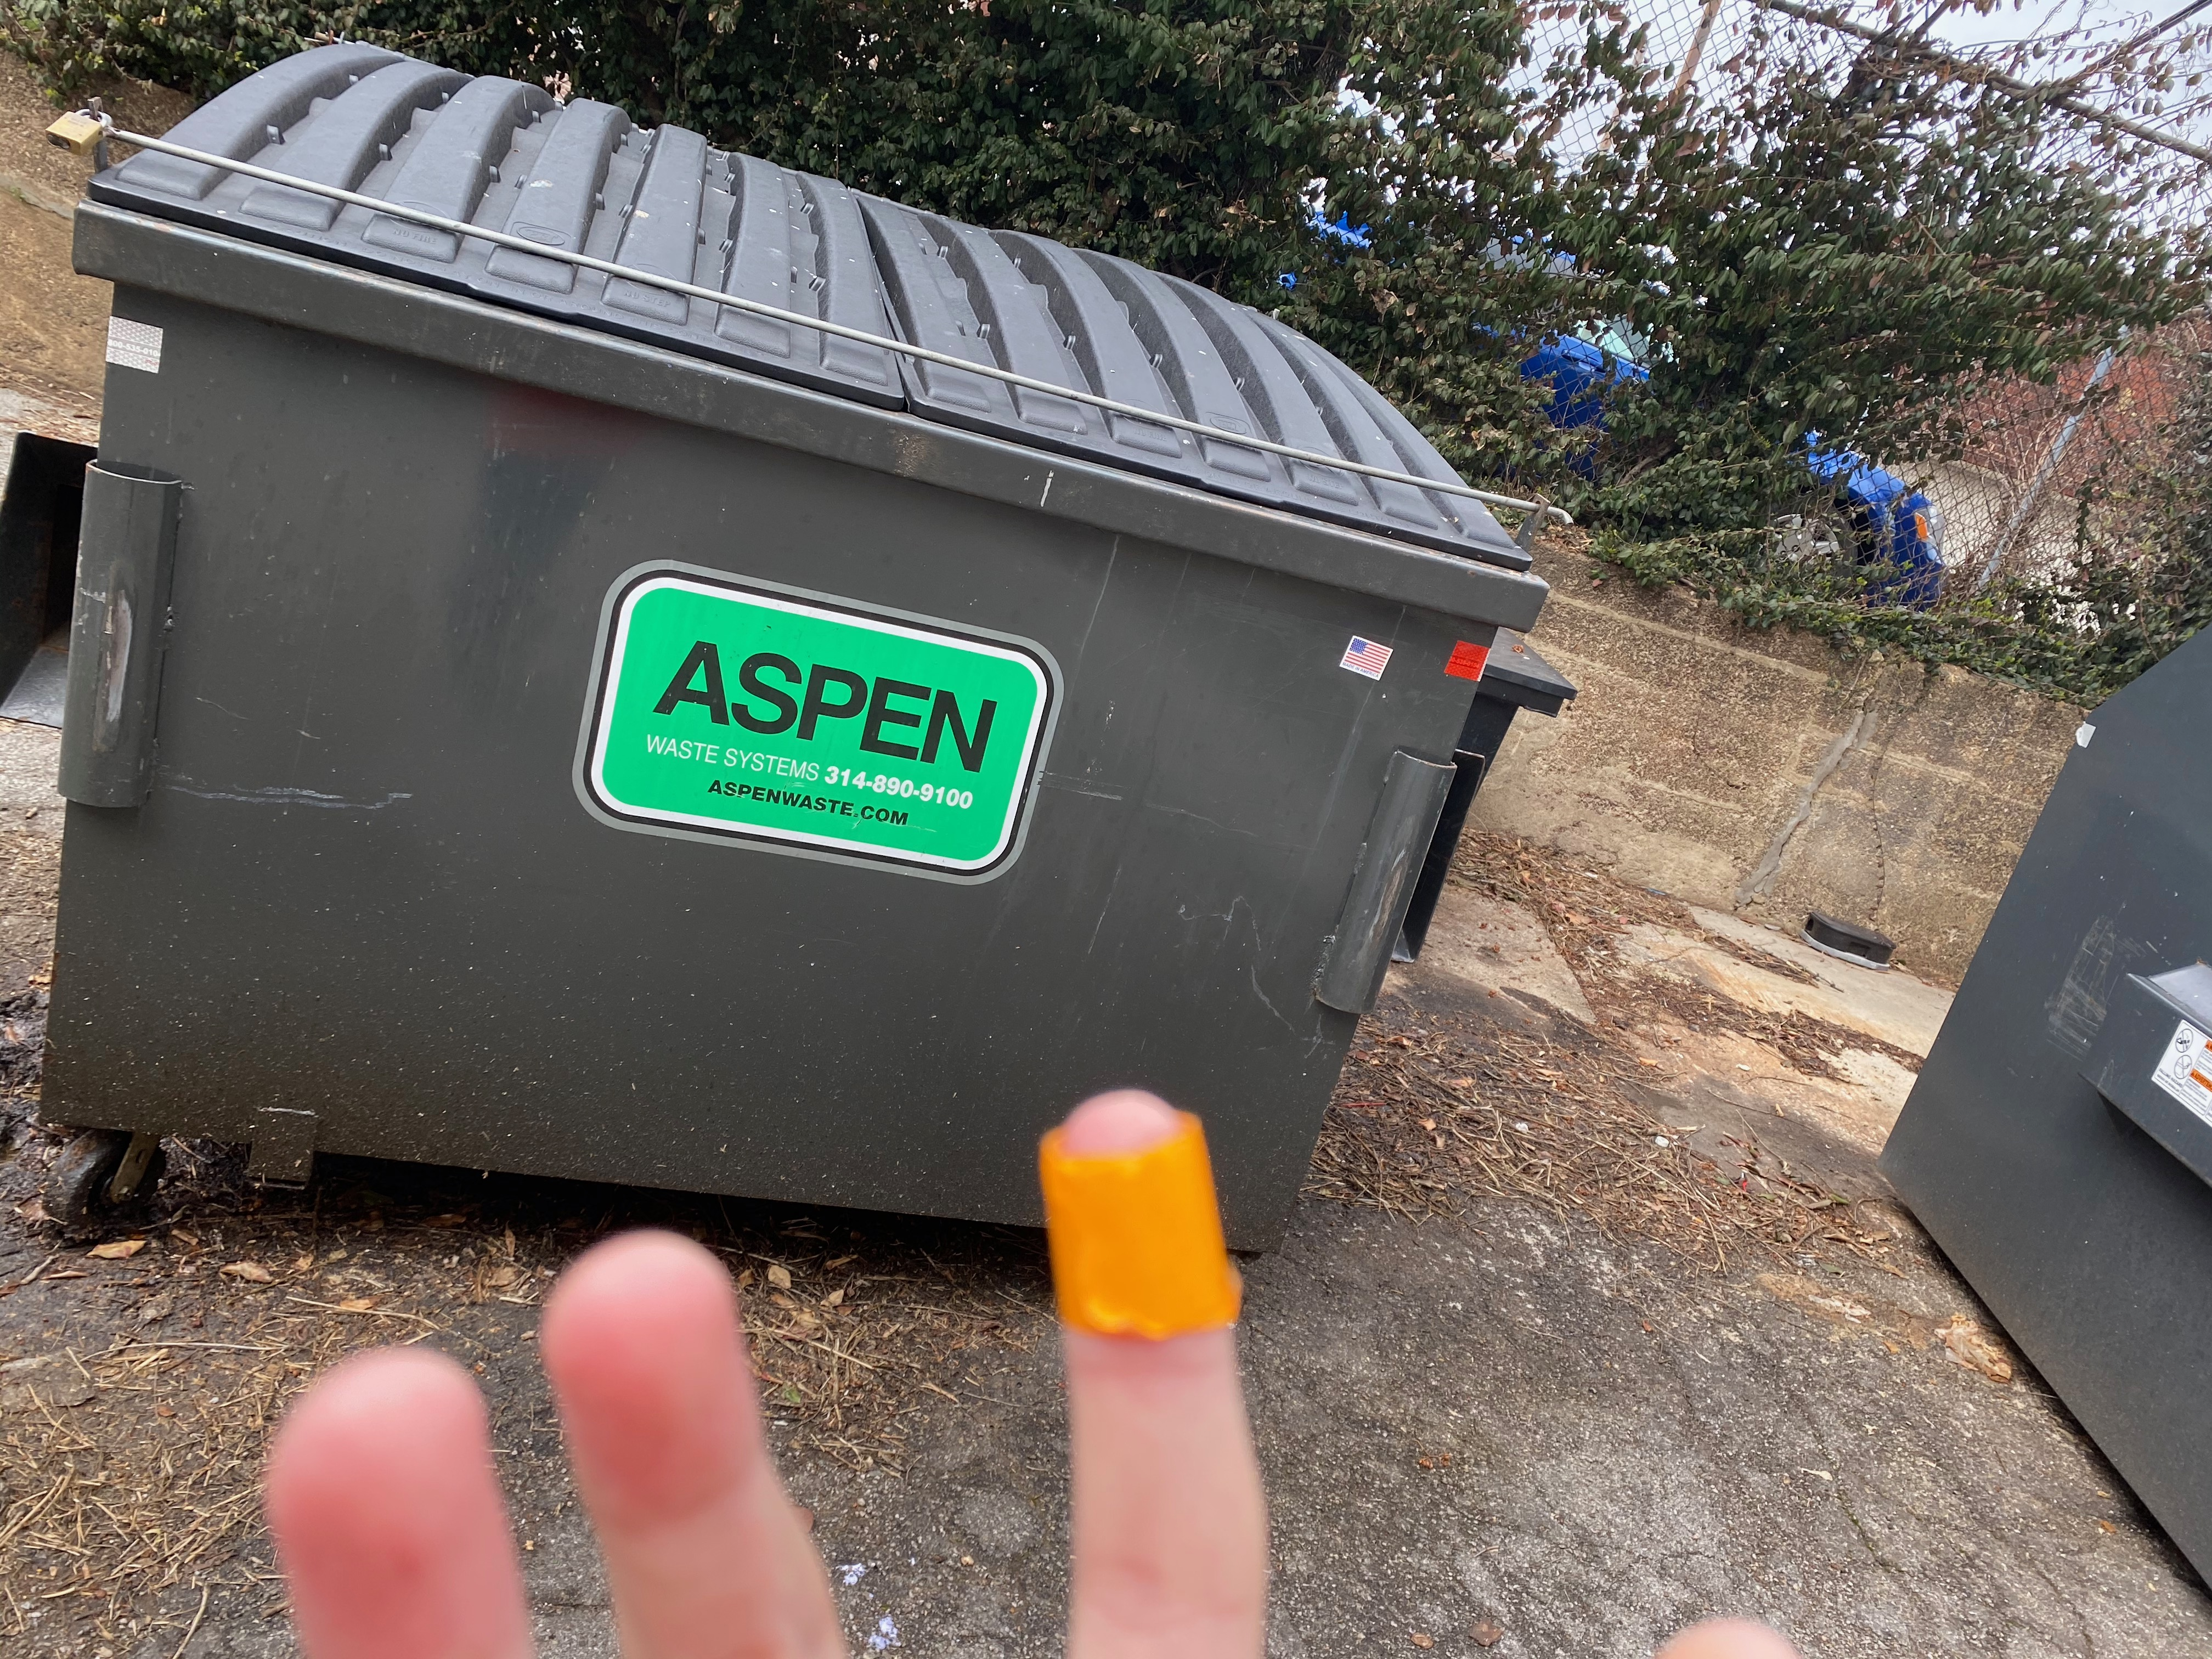fingertip: (996, 1091, 1292, 1391)
